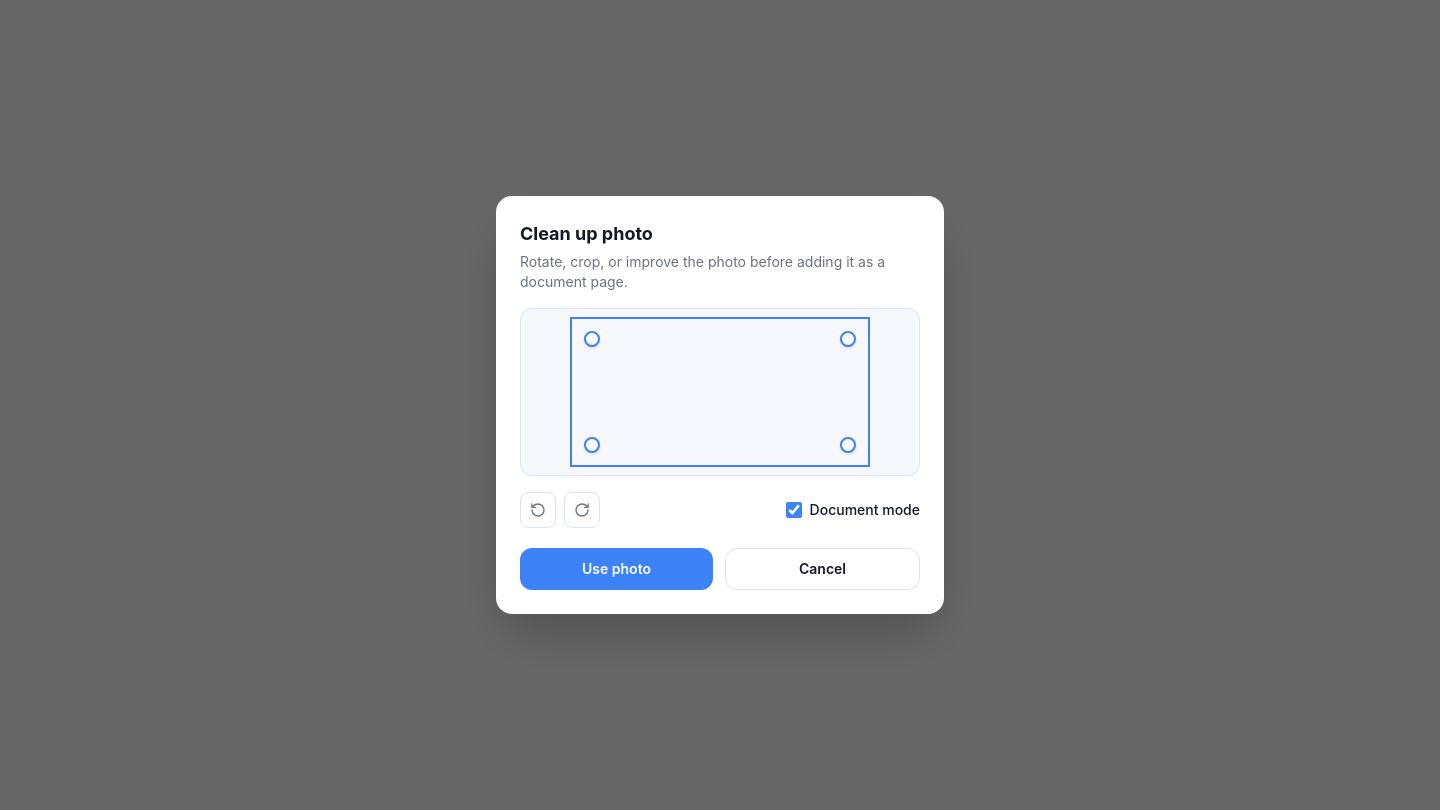
Test: PhotoCleanupModal › Reset crop restores the full frame and hides itself
Press the mouse on the element with test id "crop-handle-se" at (848, 445), box [840,437,856,453]
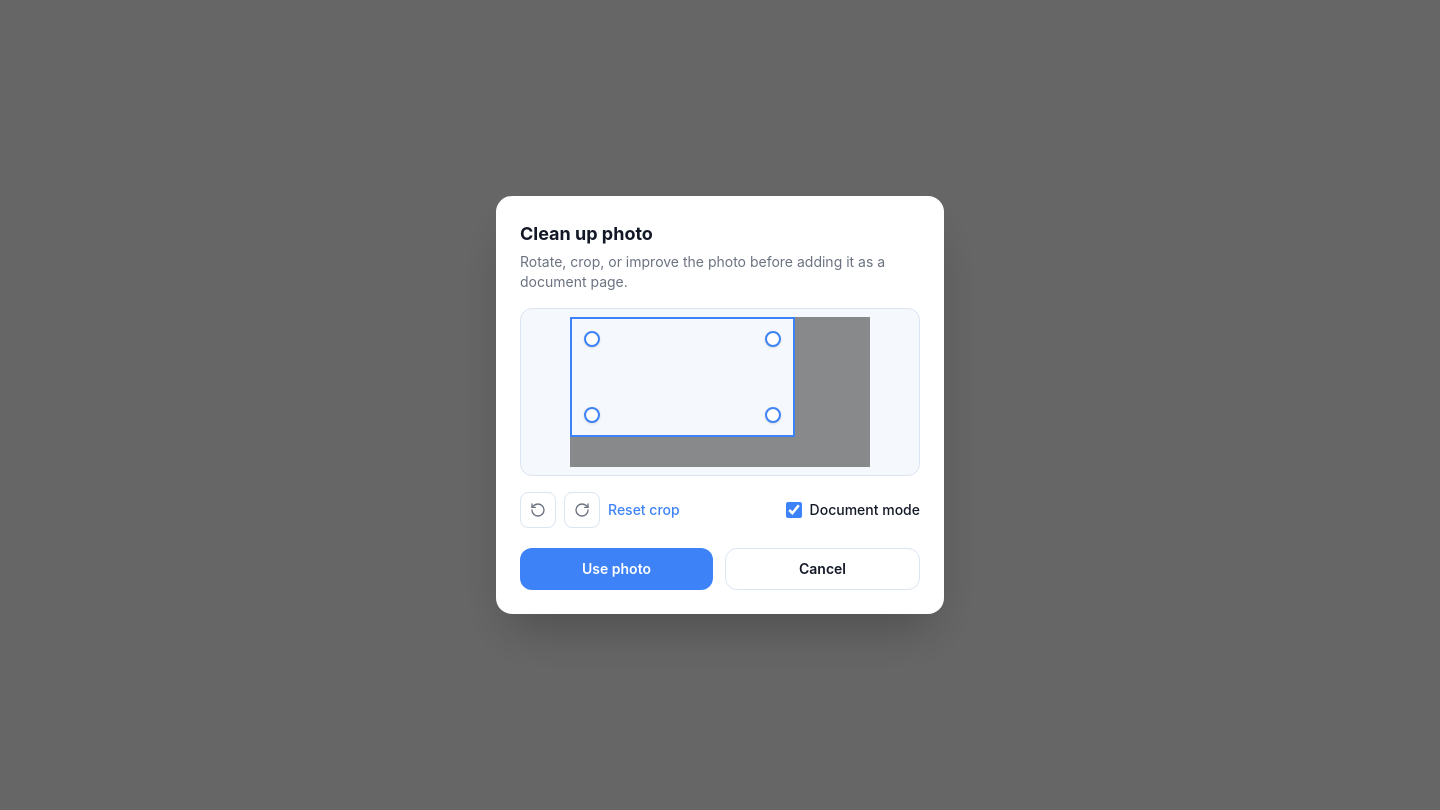
Click the button "Reset crop" at (644, 510), box [608,500,680,520]
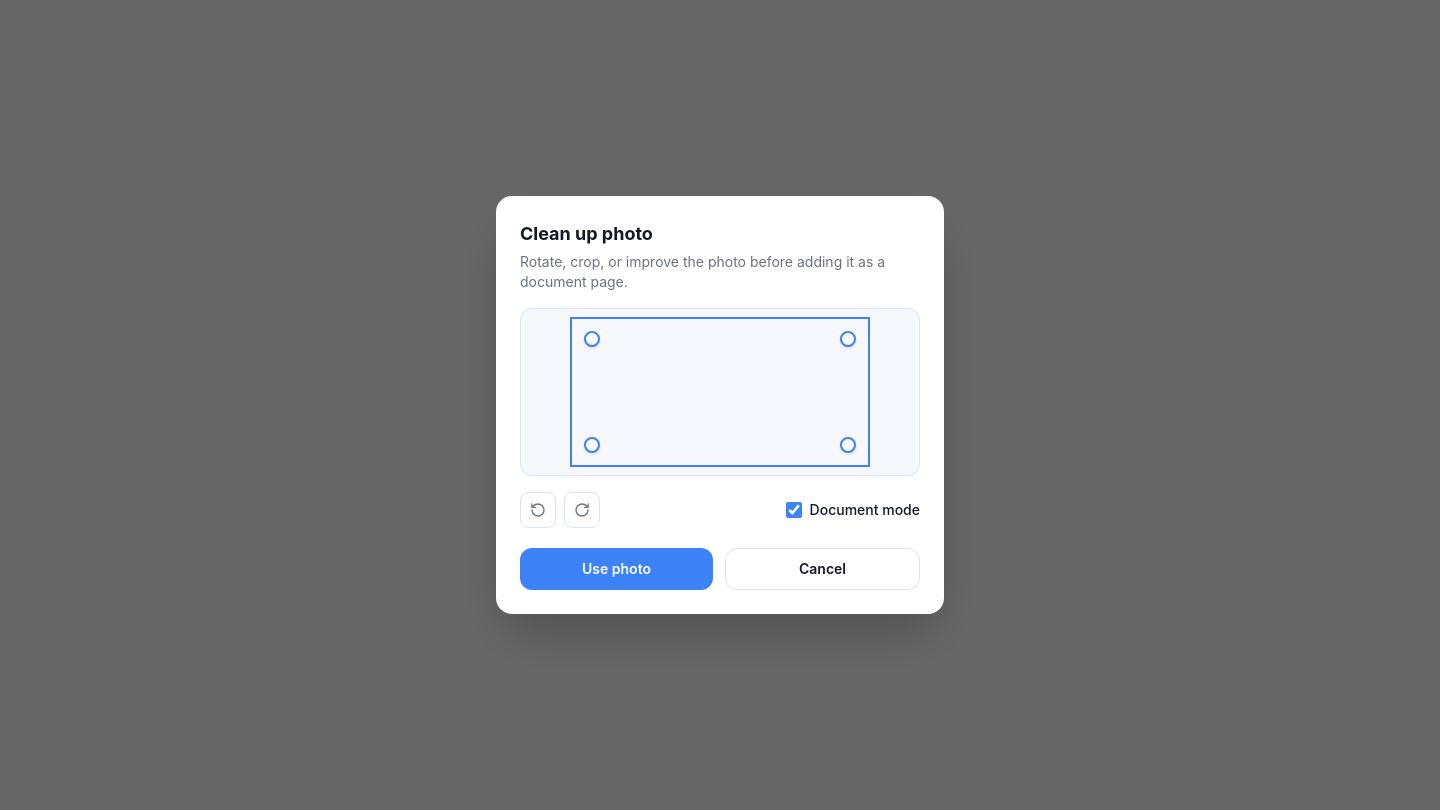
Expected: the button "Reset crop" is gone
